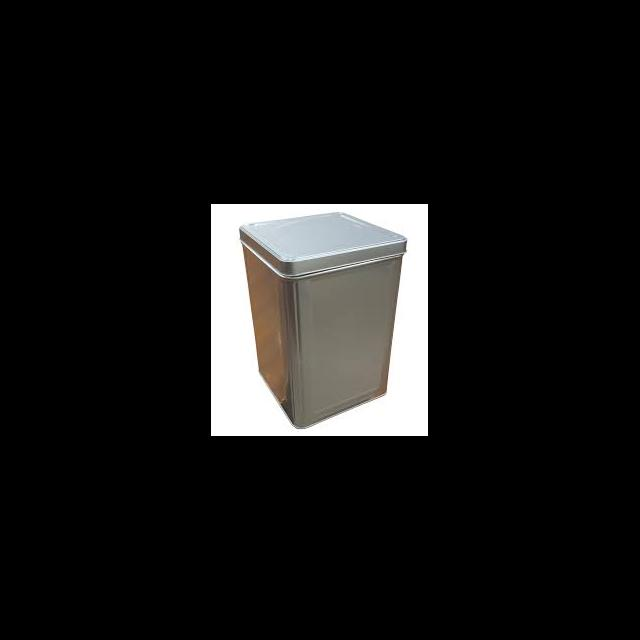metal: (238, 211, 406, 428)
